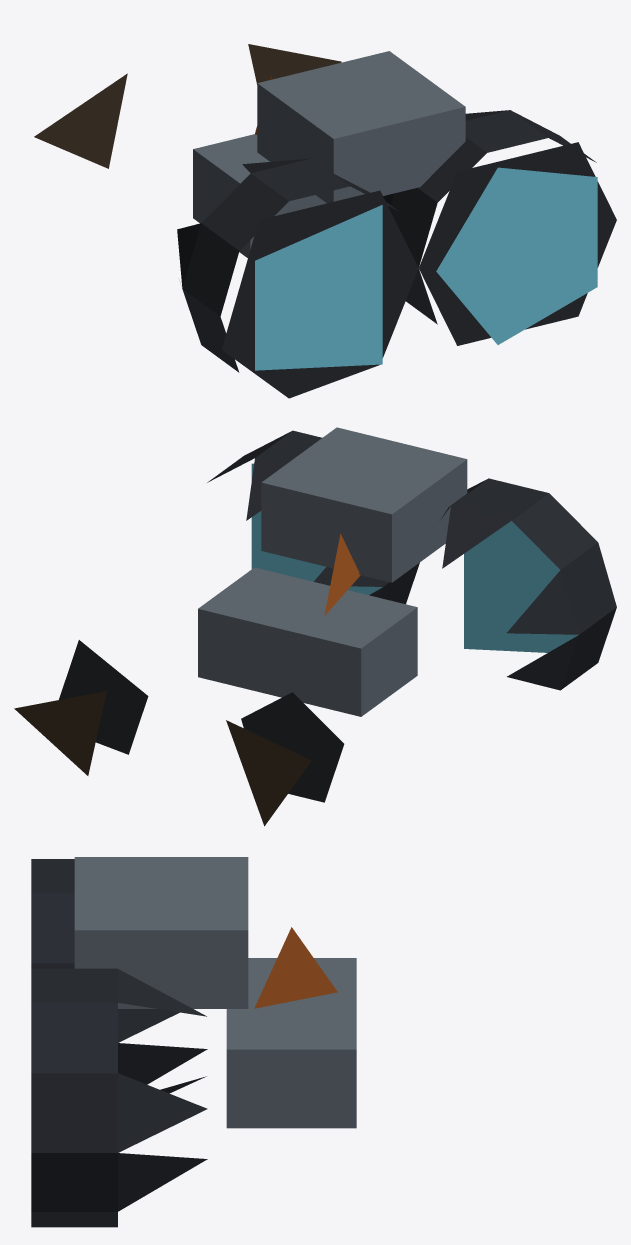
File: macrobinoculars.lod.glb
The picture shows the model from 3 angles, top to bottom: view 1: azimuth 30°, elevation 25°; view 2: azimuth 150°, elevation 25°; view 3: azimuth 270°, elevation 25°; orthographic projection. The views are drawn at different scales.
Visible parts, largest first — view 1: m; view 2: m; view 3: m.
Part boxes in pixels (<box>): m: <box>34,44,616,398</box>; m: <box>14,427,616,826</box>; m: <box>31,857,356,1227</box>.
Size of the model in its own units: 0.1209 by 0.067 by 0.14.
